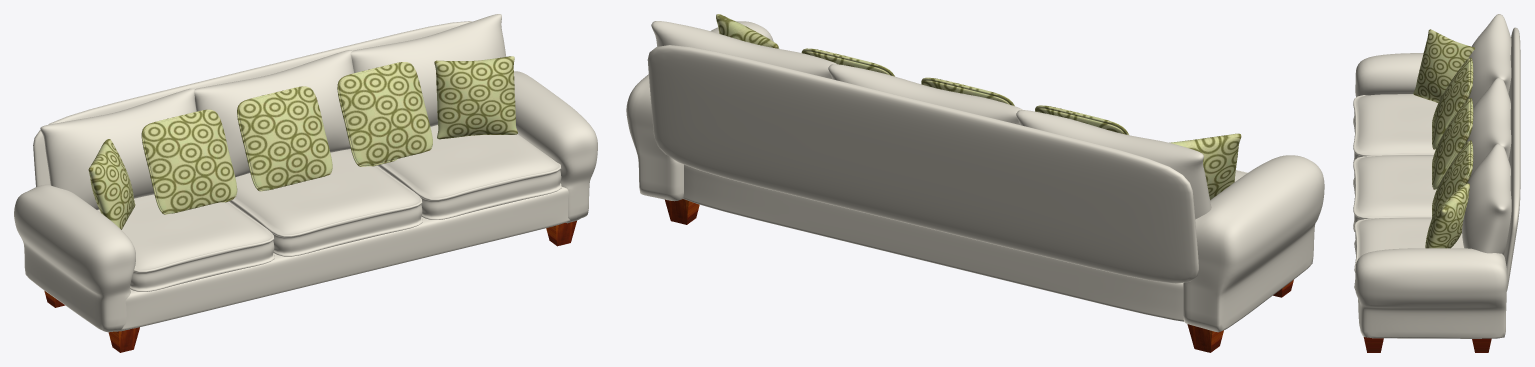
The model's file is largeCouch.glb.
3 renders of one model, left to right at view 1: azimuth 30°, elevation 25°; view 2: azimuth 150°, elevation 25°; view 3: azimuth 270°, elevation 25°, orthographic. The views are drawn at different scales.
Visible parts, largest first — view 1: largeCouch; view 2: largeCouch; view 3: largeCouch.
Part boxes in pixels (x1=…): largeCouch: x1=14, y1=14, x2=597, y2=352; largeCouch: x1=626, y1=14, x2=1324, y2=352; largeCouch: x1=1353, y1=14, x2=1520, y2=352.
Size of the model in its own units: 2.37 by 0.7505 by 0.7665.
3 materials, 2 textured.
